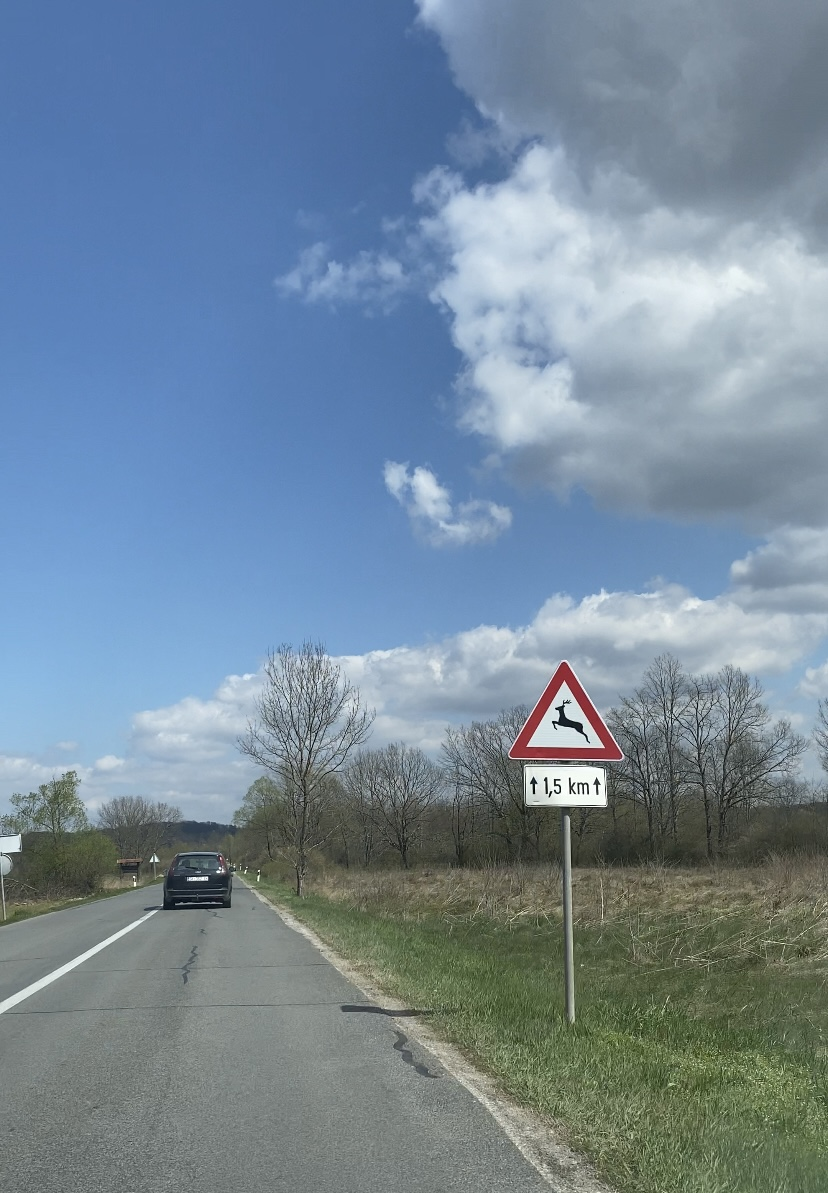Divljač na cesti: (507, 659, 624, 761)
